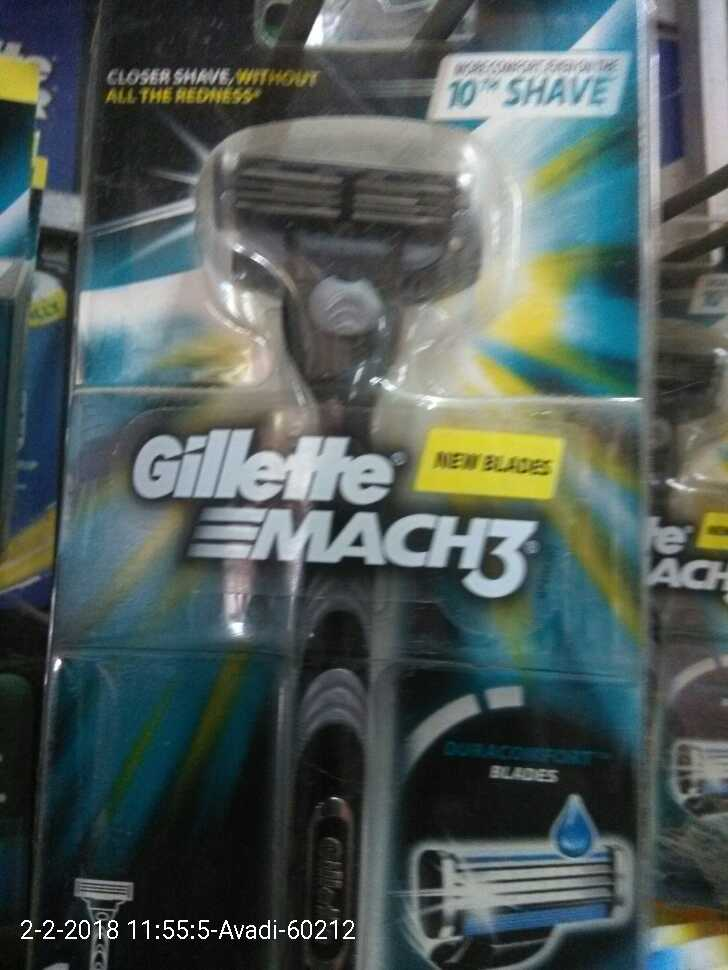gillette: (173, 81, 535, 969)
